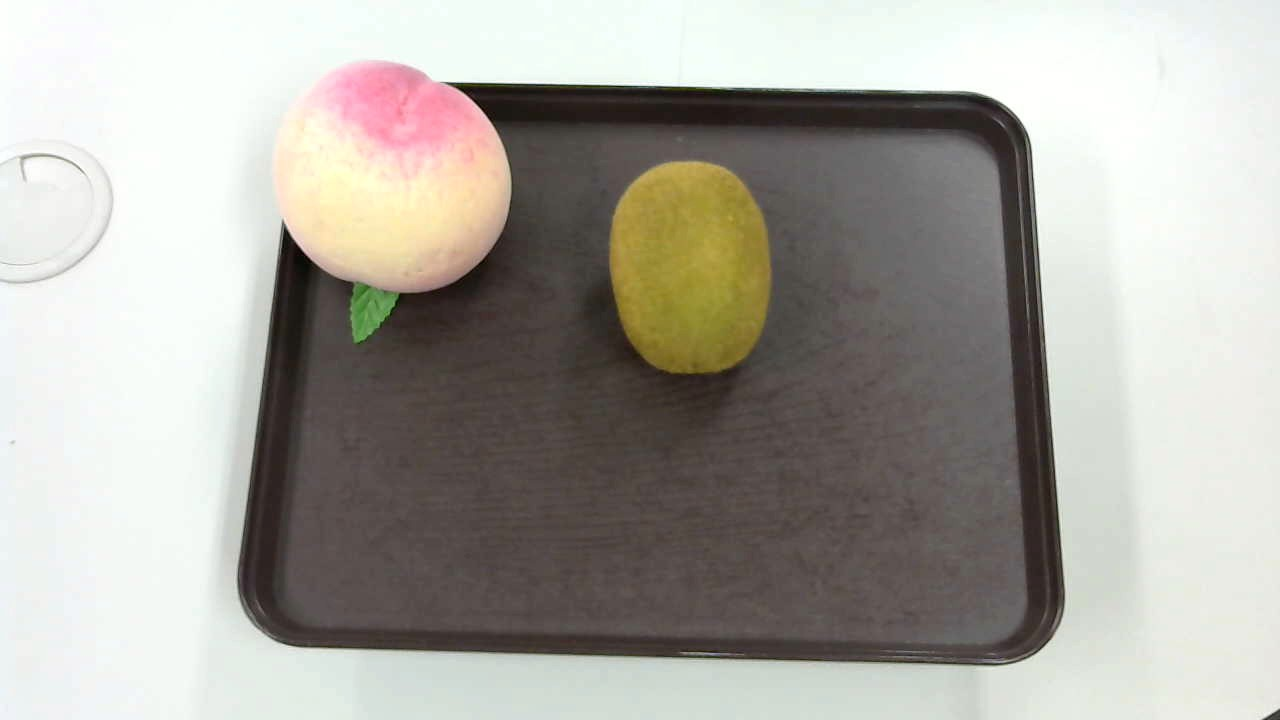kiwi fruit: (609, 155, 773, 381)
peach: (272, 55, 510, 351)
